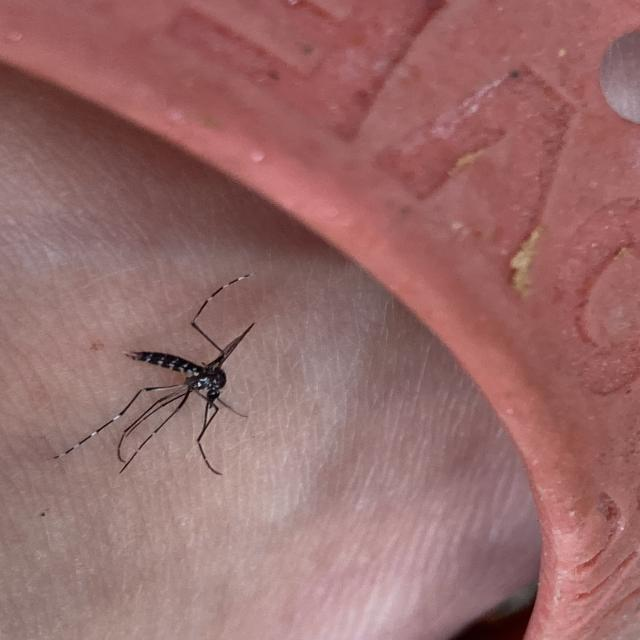albopictus: (53, 266, 268, 480)
